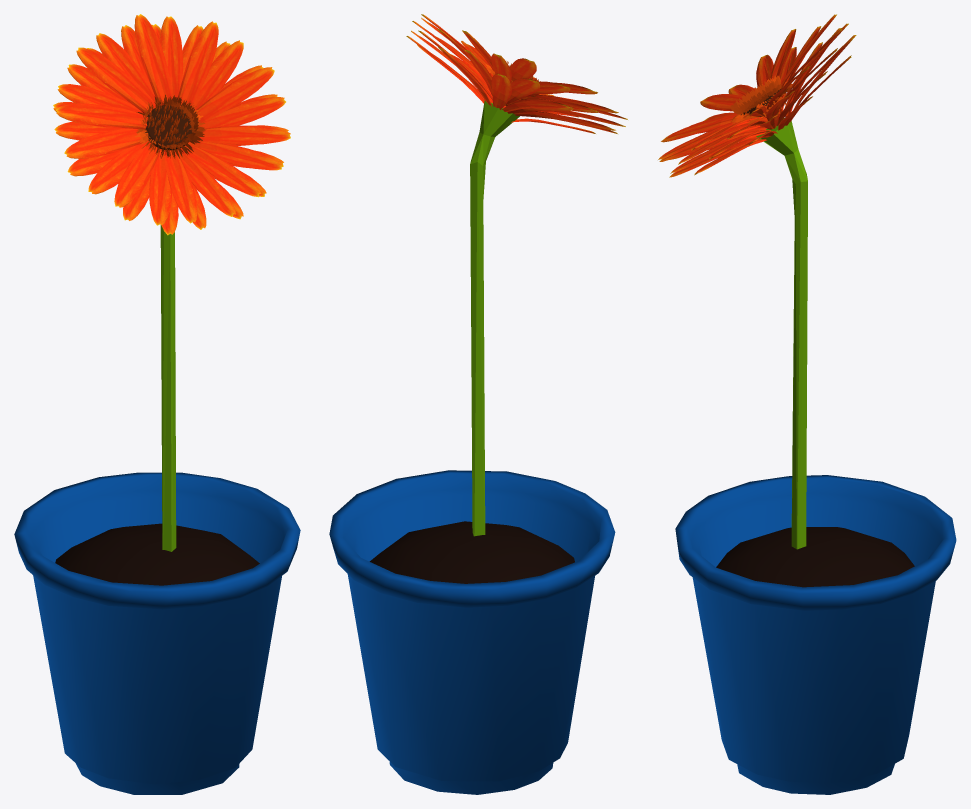
The model's file is Gerberadaisy0620.obj.
3 renders of one model, left to right at view 1: azimuth 30°, elevation 25°; view 2: azimuth 150°, elevation 25°; view 3: azimuth 270°, elevation 25°, orthographic.
Visible parts, largest first — view 1: Blue_pot_Pot_Cylinder, Gerbera_daisy_flower_Cylinder, Stem_Cylinder.001; view 2: Blue_pot_Pot_Cylinder, Gerbera_daisy_flower_Cylinder, Stem_Cylinder.001; view 3: Blue_pot_Pot_Cylinder, Gerbera_daisy_flower_Cylinder, Stem_Cylinder.001.
Boxes of the visible parts, <box> form: Blue_pot_Pot_Cylinder: <box>14,472,300,794</box>; Gerbera_daisy_flower_Cylinder: <box>53,14,290,235</box>; Stem_Cylinder.001: <box>160,225,176,551</box>; Blue_pot_Pot_Cylinder: <box>329,470,615,794</box>; Gerbera_daisy_flower_Cylinder: <box>406,14,627,133</box>; Stem_Cylinder.001: <box>470,100,519,536</box>; Blue_pot_Pot_Cylinder: <box>675,475,956,794</box>; Gerbera_daisy_flower_Cylinder: <box>658,14,856,177</box>; Stem_Cylinder.001: <box>756,118,807,549</box>.
Bounding box in the file's own units: 3.45 × 9.87 × 3.67.
